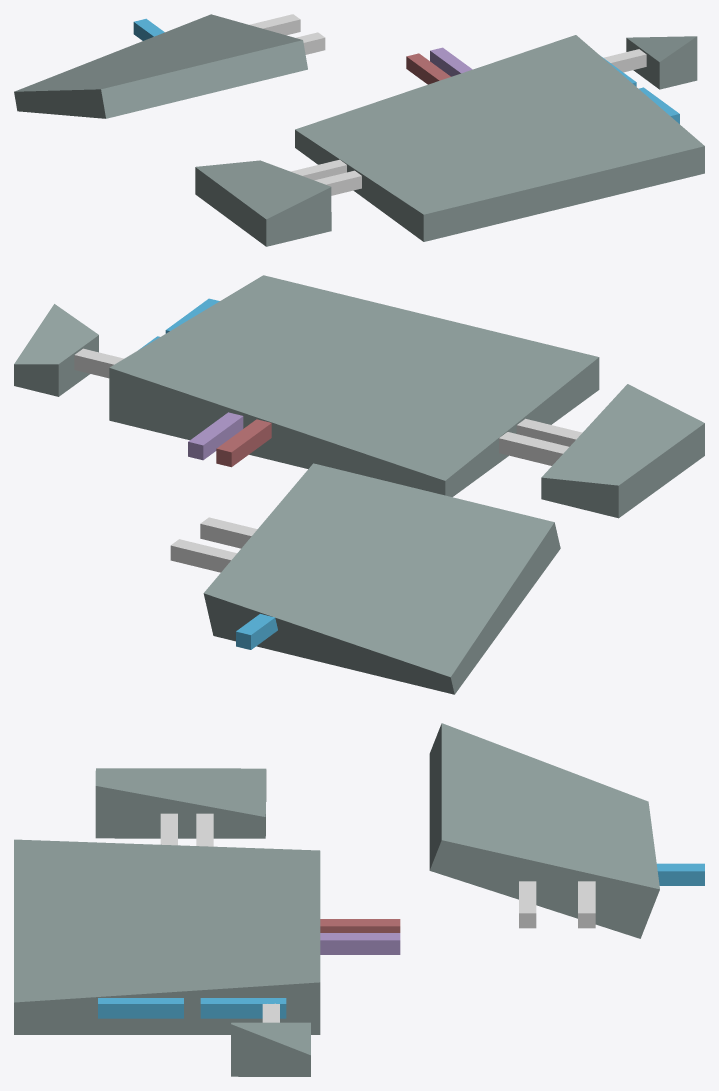
File: destroco.fbx
3 views of the same model, one above another, from view 1: azimuth 30°, elevation 25°; view 2: azimuth 150°, elevation 25°; view 3: azimuth 270°, elevation 25° (orthographic). The views are drawn at different scales.
Visible parts, largest first — view 1: Cube, Cube.003, Cube.001, Cube.002, Cubo.001, Cubo.006, Cubo, Cubo.005, Cubo.003, Cubo.007, Cubo.009, Cubo.008; view 2: Cube, Cube.003, Cube.001, Cube.002, Cubo.001, Cubo.005, Cubo, Cubo.007, Cubo.008, Cubo.006, Cubo.009, Cubo.003; view 3: Cube, Cube.003, Cube.001, Cube.002, Cubo.004, Cubo, Cubo.002, Cubo.001, Cubo.009, Cubo.007, Cubo.008, Cubo.005 (+1 smaller).
Boxes of the visible parts, x1=… form: Cube: x1=295, y1=35, x2=704, y2=241; Cube.003: x1=14, y1=14, x2=307, y2=118; Cube.001: x1=195, y1=160, x2=331, y2=246; Cube.002: x1=626, y1=36, x2=697, y2=89; Cubo.001: x1=406, y1=53, x2=450, y2=84; Cubo.006: x1=314, y1=170, x2=361, y2=195; Cubo: x1=430, y1=47, x2=472, y2=76; Cubo.005: x1=291, y1=159, x2=346, y2=180; Cubo.003: x1=603, y1=49, x2=646, y2=72; Cubo.007: x1=249, y1=14, x2=300, y2=35; Cubo.009: x1=133, y1=18, x2=164, y2=40; Cubo.008: x1=295, y1=32, x2=325, y2=54; Cube: x1=109, y1=275, x2=599, y2=497; Cube.003: x1=203, y1=463, x2=560, y2=694; Cube.001: x1=541, y1=384, x2=704, y2=518; Cube.002: x1=14, y1=304, x2=98, y2=396; Cubo.001: x1=216, y1=419, x2=271, y2=467; Cubo.005: x1=499, y1=432, x2=568, y2=465; Cubo: x1=188, y1=412, x2=243, y2=460; Cubo.007: x1=170, y1=539, x2=236, y2=572; Cubo.008: x1=200, y1=517, x2=257, y2=548; Cubo.006: x1=516, y1=418, x2=581, y2=446; Cubo.009: x1=236, y1=614, x2=277, y2=649; Cubo.003: x1=74, y1=348, x2=123, y2=378; Cube: x1=14, y1=839, x2=320, y2=1034; Cube.003: x1=429, y1=723, x2=659, y2=938; Cube.001: x1=95, y1=768, x2=266, y2=838; Cube.002: x1=231, y1=1022, x2=310, y2=1076; Cubo.004: x1=98, y1=998, x2=183, y2=1018; Cubo: x1=320, y1=933, x2=400, y2=954; Cubo.002: x1=200, y1=998, x2=286, y2=1018; Cubo.001: x1=320, y1=919, x2=400, y2=932; Cubo.009: x1=656, y1=863, x2=704, y2=885; Cubo.007: x1=578, y1=881, x2=595, y2=928; Cubo.008: x1=519, y1=881, x2=536, y2=928; Cubo.005: x1=196, y1=813, x2=213, y2=846.
Size of the model in its own units: 314 by 49.18 by 311.
